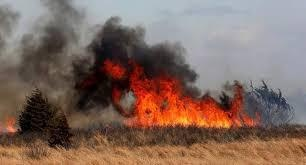fire: (103, 59, 257, 128), (0, 113, 20, 134)
